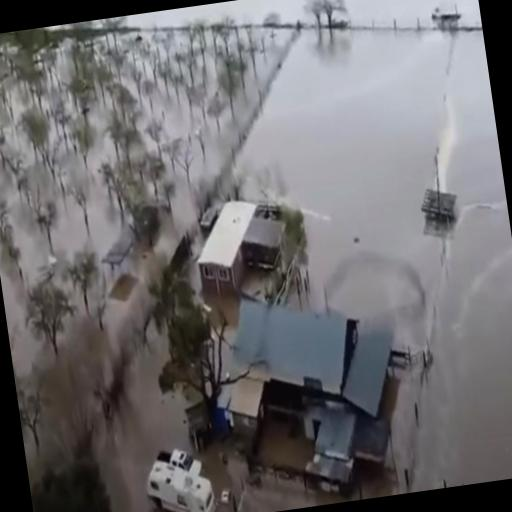flood: (237, 30, 512, 493), (0, 26, 290, 389), (92, 323, 197, 512), (182, 257, 283, 345), (236, 473, 396, 512), (126, 0, 315, 26), (338, 0, 482, 27), (51, 383, 69, 409)
house: (206, 274, 419, 512), (186, 190, 282, 302)
